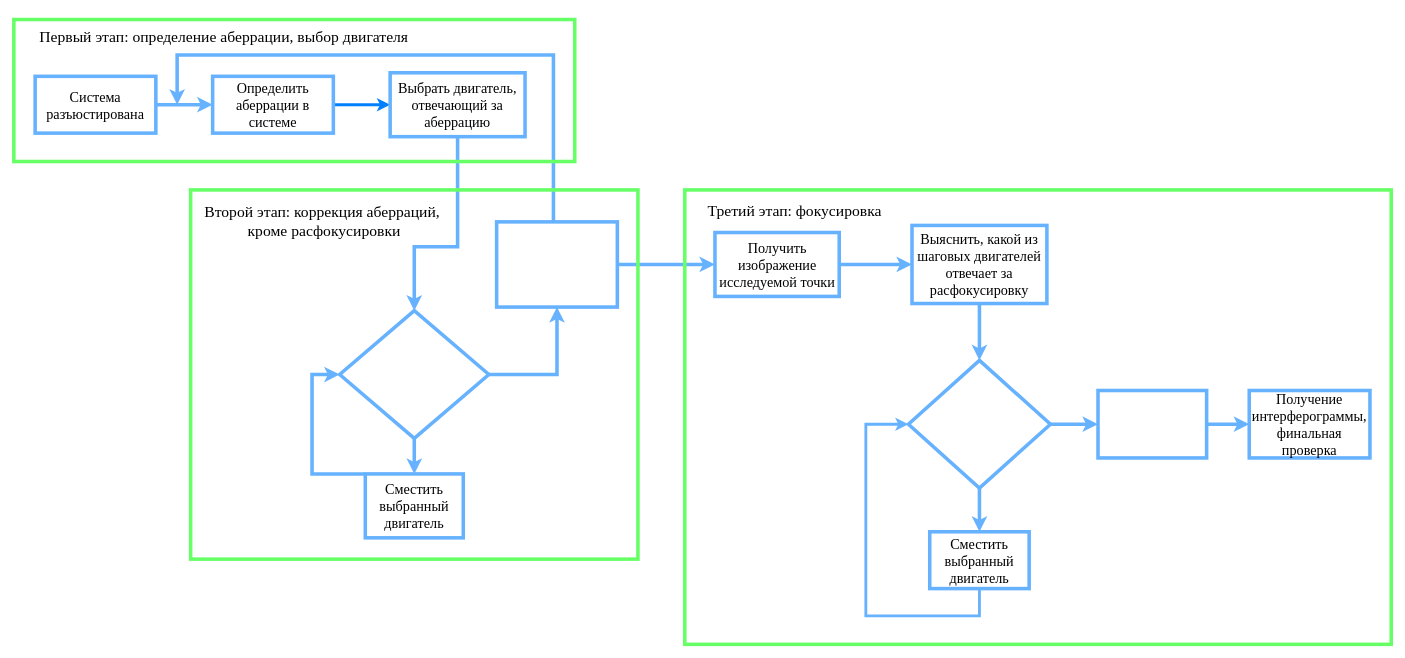
Image size: 1405x658. Some labels were removed from this diagram. The box of each missing label's shape, as (x1, y1, x2, y2) in pixels:
Коэффициент приемлем ?: (338, 308, 490, 440)
Коэффициент приемлем?: (906, 358, 1052, 490)
Переход к компенсации следующей аберрации: (495, 220, 619, 308)
Система съюстирована, выход из цикла: (1096, 388, 1208, 459)
